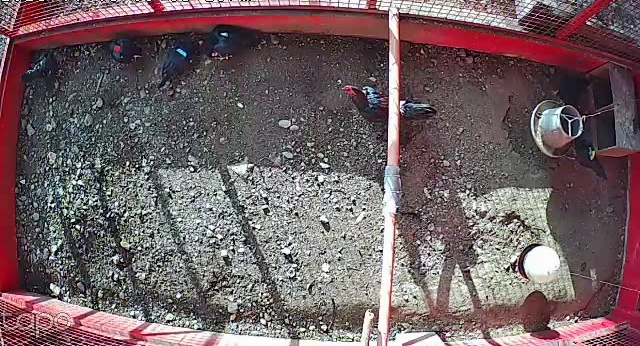Chicken: (198, 22, 271, 65), (158, 40, 204, 91), (563, 132, 609, 180), (20, 48, 66, 86), (102, 35, 145, 66)
Rooster: (338, 77, 440, 133)
Saddle_Color_Blue: (174, 48, 187, 59)
Saddle_Color_Red: (113, 44, 121, 52)
Saddle_Color_White: (221, 33, 227, 37)
Saddle_Color_YellowGreen: (585, 148, 598, 161)
